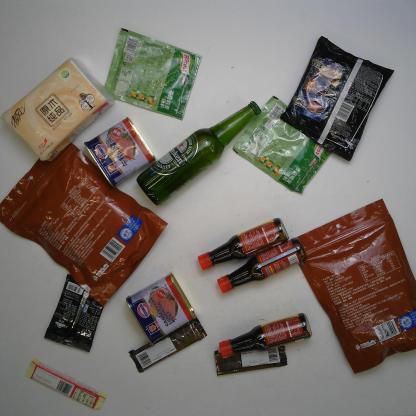Alcohol: (135, 101, 262, 206)
Canned Food: (82, 116, 156, 188), (125, 273, 197, 346)
Chocolate: (128, 314, 206, 372), (22, 360, 108, 410), (212, 342, 289, 376)
Dried Food: (3, 133, 169, 306), (284, 198, 415, 372)
Instant Drink: (42, 274, 110, 352)
Instant Noodles: (278, 34, 394, 163)
Seasoner: (233, 95, 336, 195), (97, 27, 203, 122), (196, 216, 289, 272), (216, 237, 306, 292), (216, 312, 314, 359)
Tissue: (2, 58, 114, 163)
